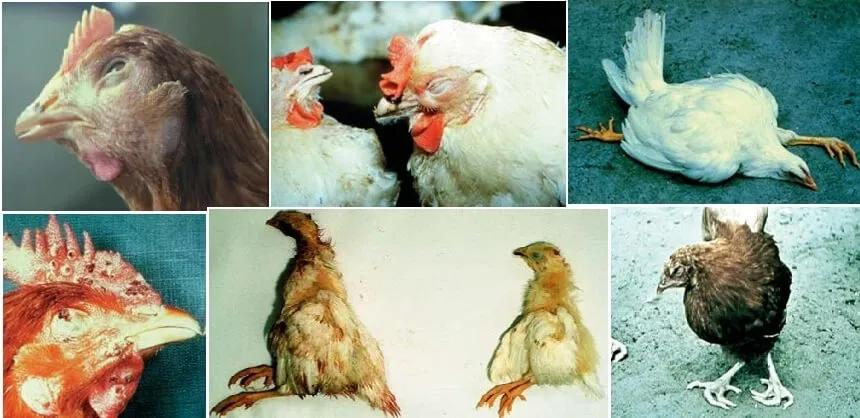AbNormal: (577, 8, 857, 194), (7, 8, 264, 203), (210, 211, 419, 418), (5, 227, 202, 414), (638, 214, 818, 413), (370, 19, 565, 201), (470, 227, 607, 416)
